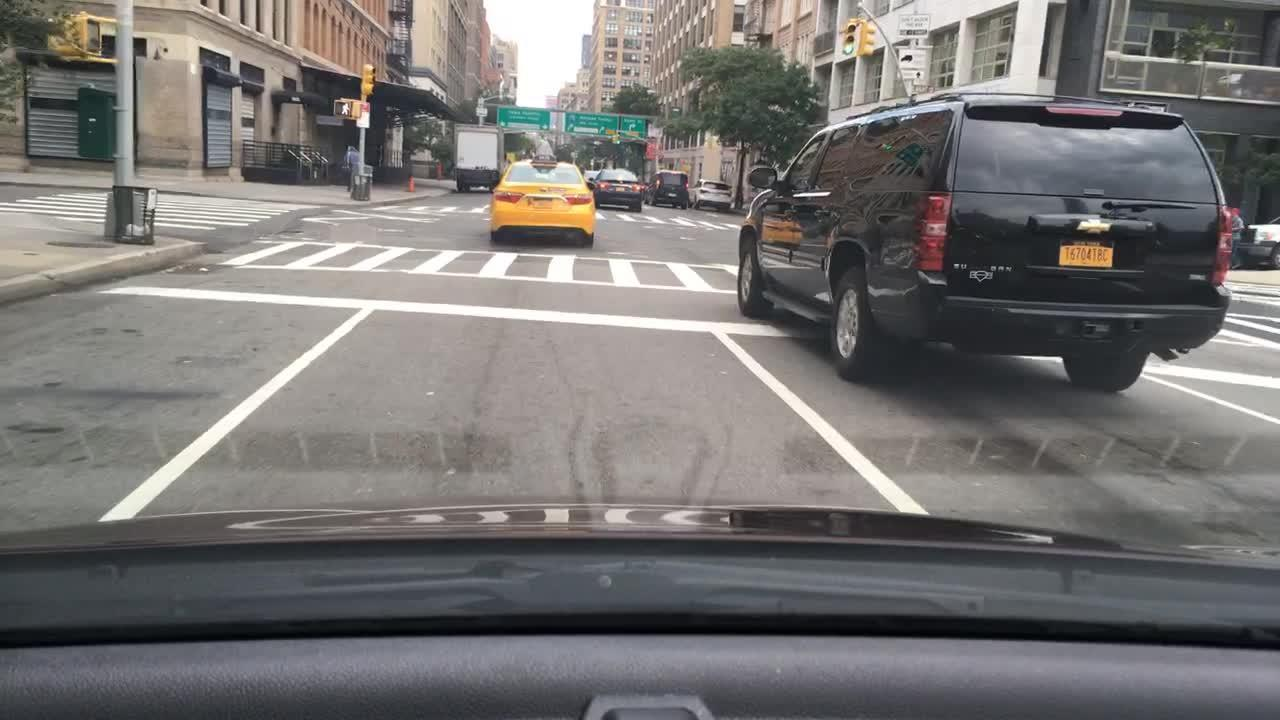chevrolet: (1069, 209, 1121, 245)
